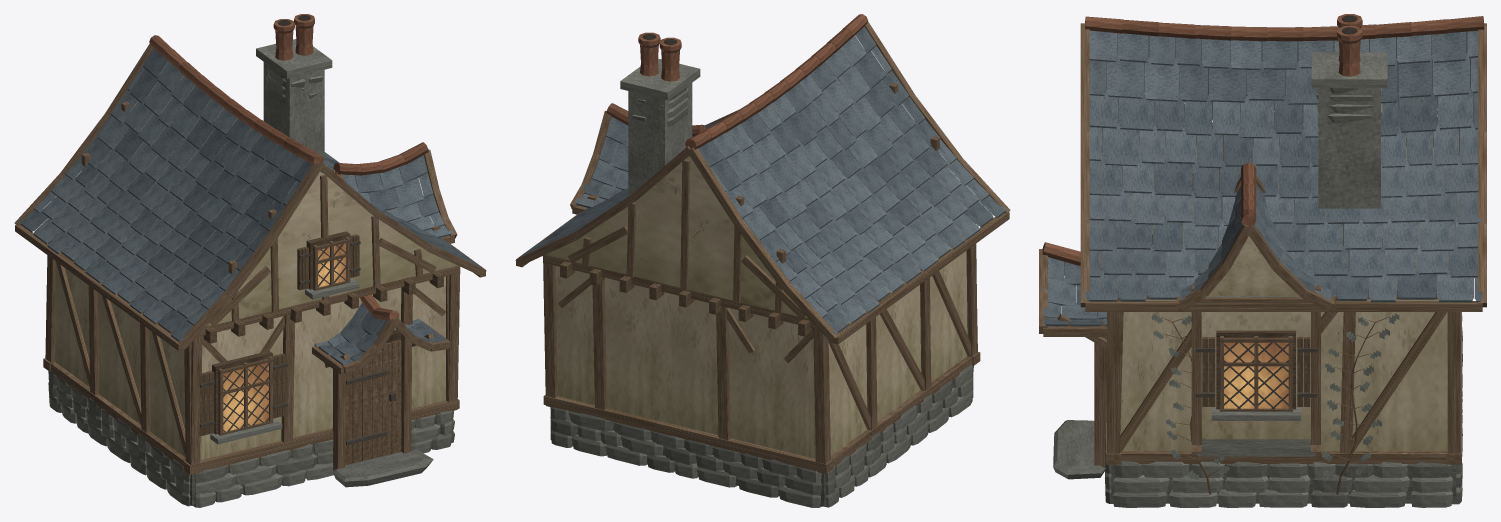
File: cottage.glb
The picture shows the model from 3 angles, left to right: view 1: azimuth 30°, elevation 25°; view 2: azimuth 150°, elevation 25°; view 3: azimuth 270°, elevation 25°; orthographic projection. The views are drawn at different scales.
Visible parts, largest first — view 1: Merewatch cottage; view 2: Merewatch cottage; view 3: Merewatch cottage.
Boxes of the visible parts, x1,y1,x2,y2 form: Merewatch cottage: (14, 14, 486, 507); Merewatch cottage: (515, 14, 1010, 507); Merewatch cottage: (1039, 14, 1486, 507).
Bounding box in the file's own units: 5.81 × 6.42 × 5.85.
Materials: 2 (2 with a texture image).
